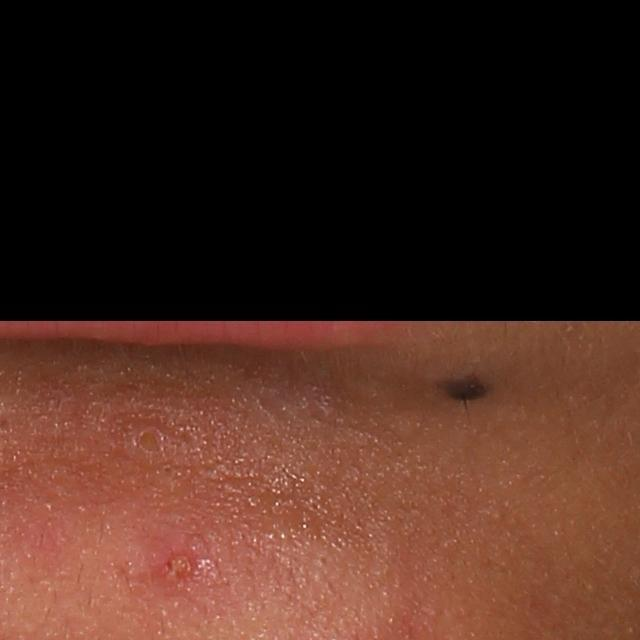nevus: (443, 380, 485, 405)
